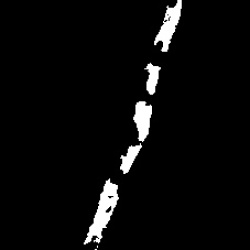crack: (84, 2, 184, 243)
